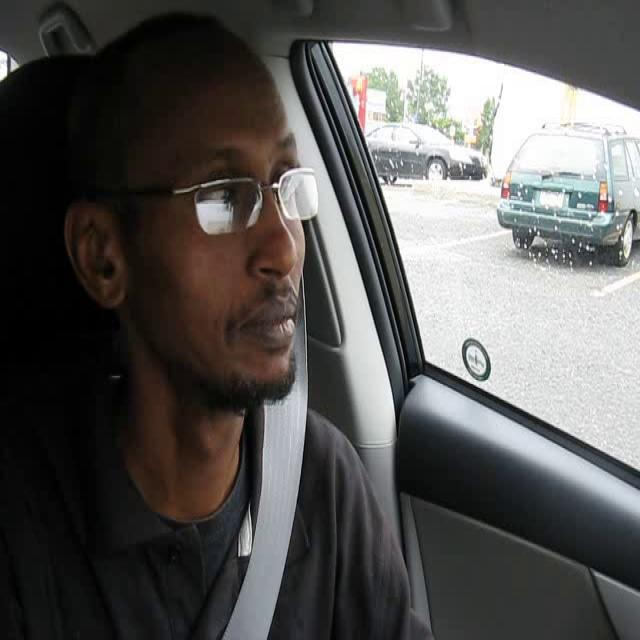close: (240, 293, 301, 343)
